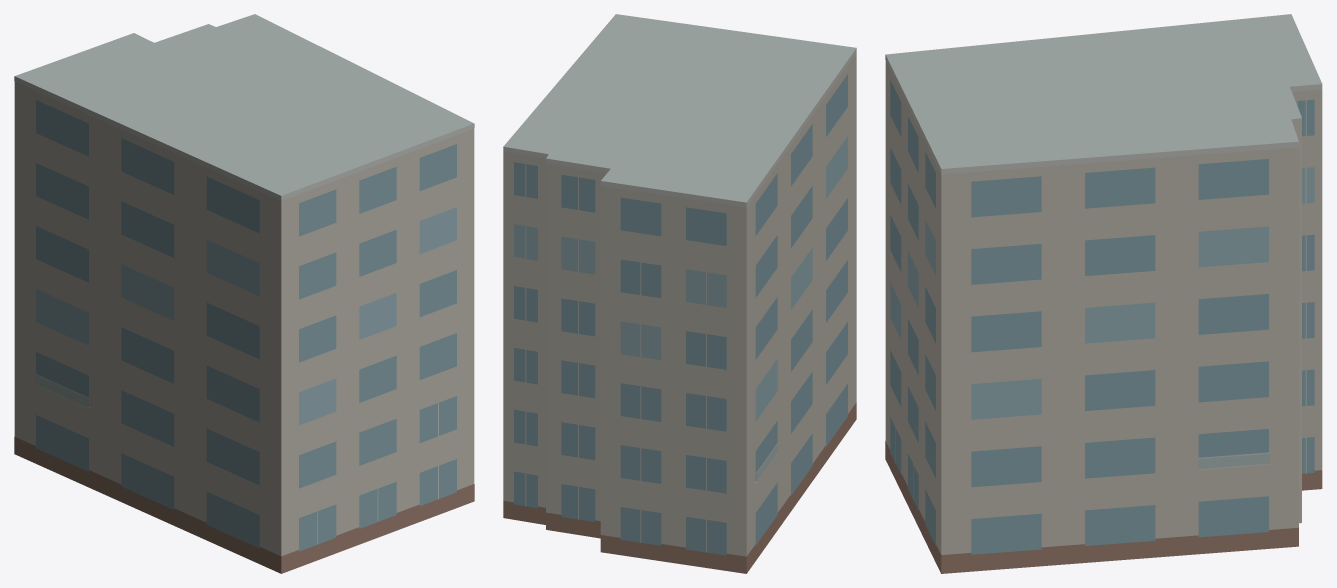
File: survey-upis-32642525.glb
3 views of the same model, side by side, from view 1: azimuth 30°, elevation 25°; view 2: azimuth 150°, elevation 25°; view 3: azimuth 270°, elevation 25° (orthographic). The views are drawn at different scales.
Visible parts, largest first — view 1: survey-upis-32642525.tmp; view 2: survey-upis-32642525.tmp; view 3: survey-upis-32642525.tmp.
Boxes of the visible parts, x1=… form: survey-upis-32642525.tmp: x1=14, y1=14, x2=474, y2=573; survey-upis-32642525.tmp: x1=503, y1=14, x2=856, y2=573; survey-upis-32642525.tmp: x1=885, y1=14, x2=1322, y2=573.
Size of the model in its own units: 15.03 by 18.3 by 17.91.
